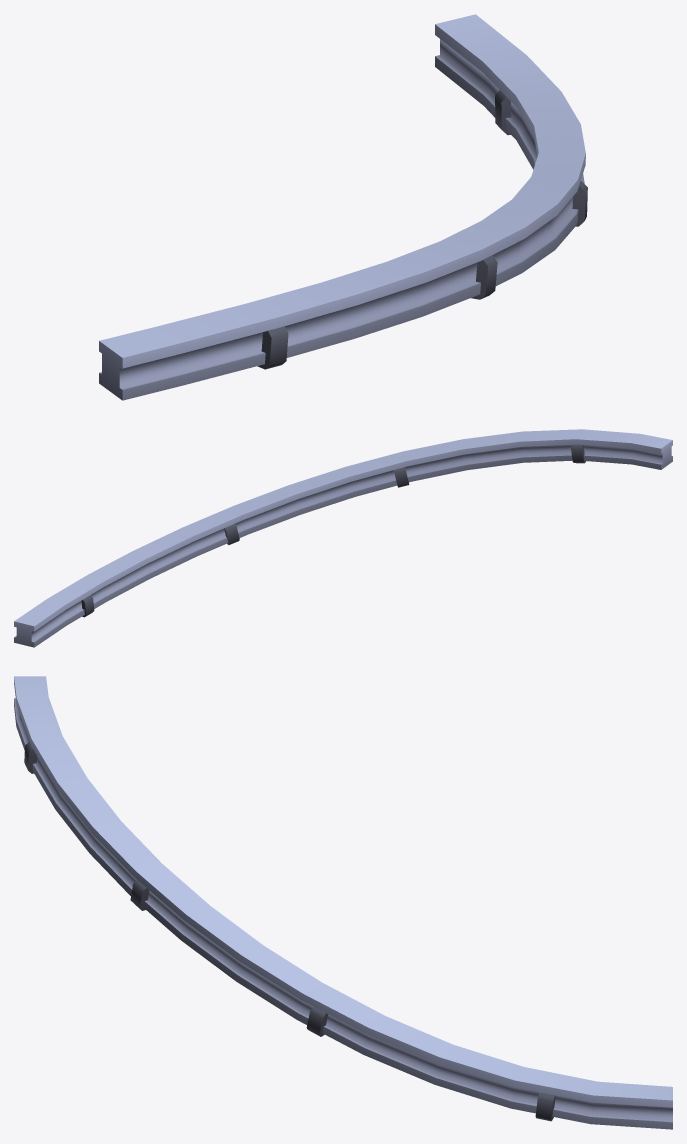
The model's file is coaster-monorail-corner-large-ramp.glb.
The picture shows the model from 3 angles, top to bottom: view 1: azimuth 30°, elevation 25°; view 2: azimuth 150°, elevation 25°; view 3: azimuth 270°, elevation 25°; orthographic projection. The views are drawn at different scales.
Parts seen in each view (by area): view 1: coaster-monorail-corner-large-ramp; view 2: coaster-monorail-corner-large-ramp; view 3: coaster-monorail-corner-large-ramp.
Part boxes in pixels (x1,y1,x2,y2): coaster-monorail-corner-large-ramp: (99,14,587,400); coaster-monorail-corner-large-ramp: (14,429,672,647); coaster-monorail-corner-large-ramp: (14,676,672,1129).
Size of the model in its own units: 4.1 by 1.2 by 4.1.
1 material, 1 textured.
